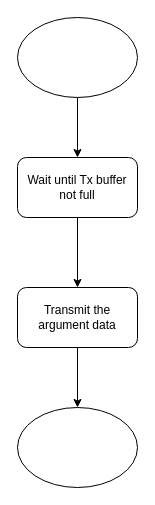
Some shapes in this 155 by 505 pixel diagram are drawn without their labels. Here are the shapes that lost their labels. From the top down, the centre of each, then its label:
At point 77,57: "Start".
At point 77,447: "Stop".
